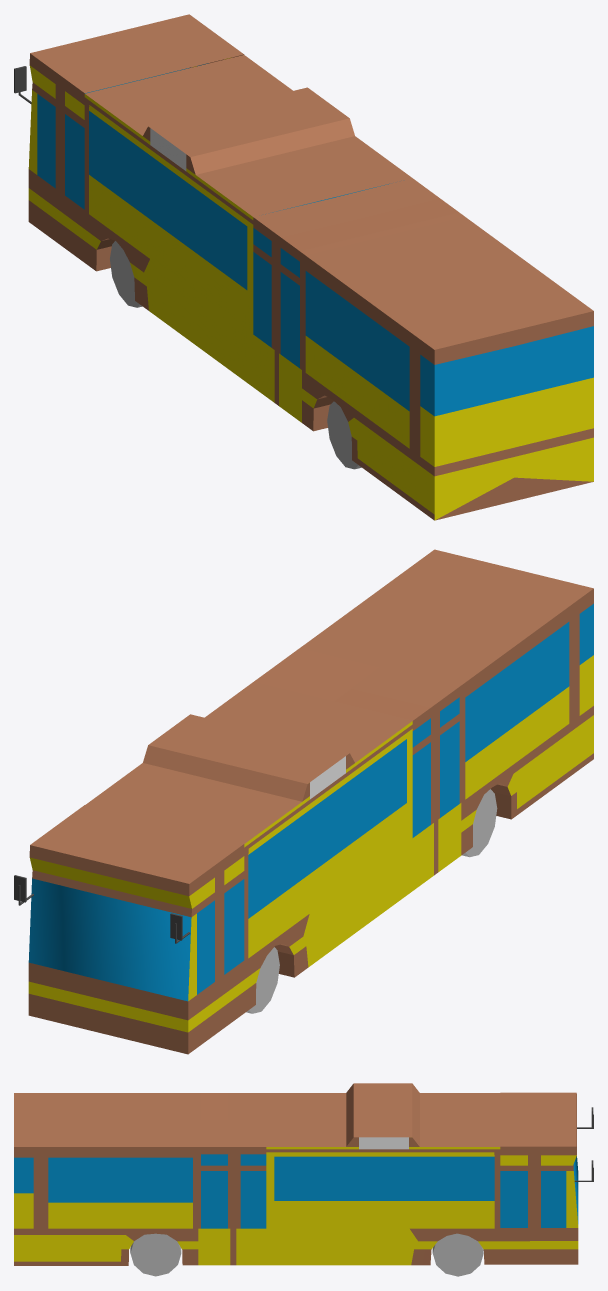
The model's file is bus.fbx.
3 renders of one model, top to bottom at view 1: azimuth 30°, elevation 25°; view 2: azimuth 150°, elevation 25°; view 3: azimuth 270°, elevation 25°, orthographic. The views are drawn at different scales.
Parts seen in each view (by area): view 1: Cube, Wheel3, Wheel2; view 2: Cube, Wheel3, Wheel2; view 3: Cube, Wheel4, Wheel1.
Part boxes in pixels (x1,y1,x2,y2): Cube: (28, 14, 593, 520); Wheel3: (327, 401, 361, 469); Wheel2: (110, 241, 142, 307); Cube: (28, 549, 593, 1054); Wheel3: (462, 789, 497, 857); Wheel2: (246, 947, 279, 1013); Cube: (14, 1083, 578, 1265); Wheel4: (130, 1233, 181, 1276); Wheel1: (432, 1233, 483, 1276).
Bounding box in the file's own units: 176 × 210 × 758.
